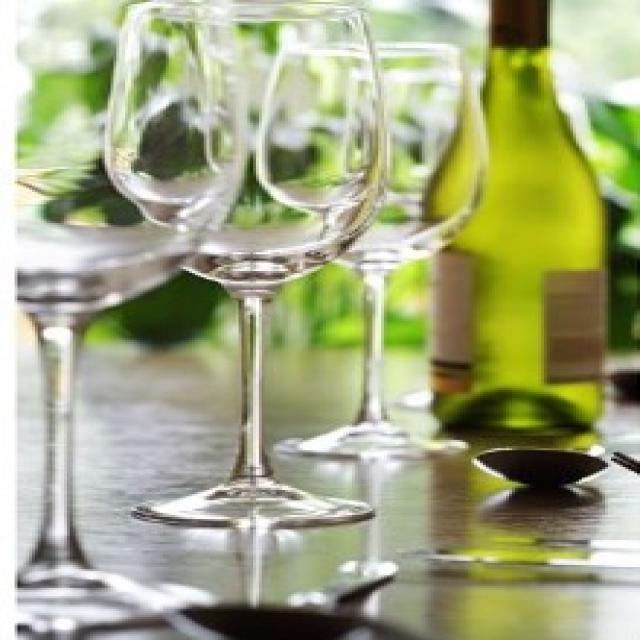electronic: (15, 2, 489, 640), (416, 0, 610, 439)
